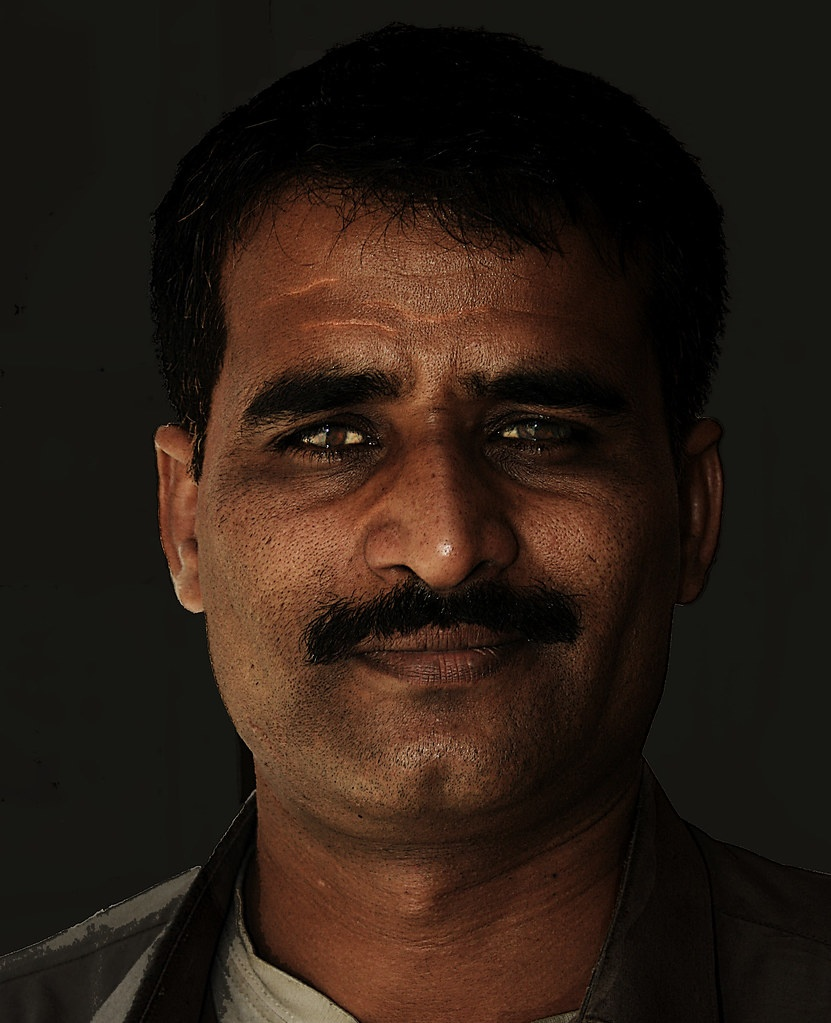without_mask: (163, 167, 708, 863)
